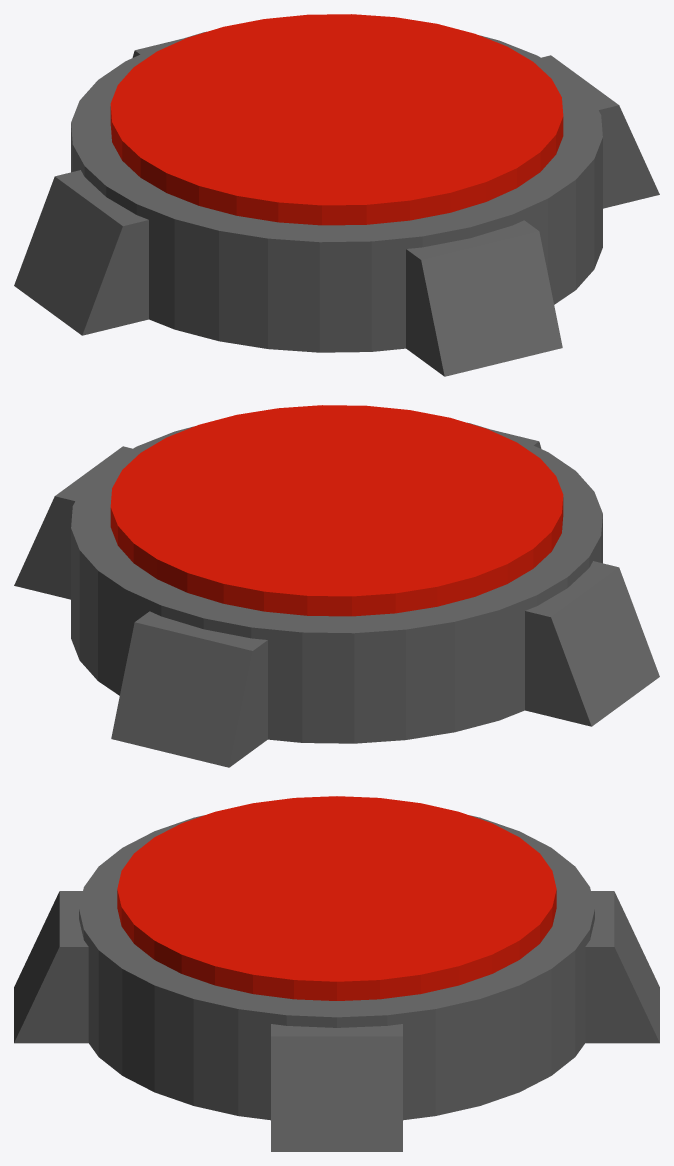
The model's file is PortalButton.fbx.
3 views of the same model, one above another, from view 1: azimuth 30°, elevation 25°; view 2: azimuth 150°, elevation 25°; view 3: azimuth 270°, elevation 25° (orthographic). The views are drawn at different scales.
Parts seen in each view (by area): view 1: Cylinder.001, Cylinder, Cube.001, Cube.003, Cube.002; view 2: Cylinder.001, Cylinder, Cube, Cube.003, Cube.002; view 3: Cylinder.001, Cylinder, Cube.002, Cube, Cube.001.
Part boxes in pixels (x1,y1,x2,y2): Cylinder.001: [110, 14, 563, 225]; Cylinder: [71, 31, 602, 352]; Cube.001: [406, 220, 562, 376]; Cube.003: [14, 170, 148, 335]; Cube.002: [541, 55, 659, 208]; Cylinder.001: [110, 405, 563, 616]; Cylinder: [71, 422, 602, 743]; Cube: [111, 611, 267, 767]; Cube.003: [525, 561, 659, 726]; Cube.002: [14, 446, 132, 599]; Cylinder.001: [117, 796, 556, 1000]; Cylinder: [79, 815, 594, 1120]; Cube.002: [271, 1024, 402, 1151]; Cube: [585, 891, 659, 1043]; Cube.001: [14, 891, 88, 1043].
Size of the model in its own units: 978 by 211 by 978.
